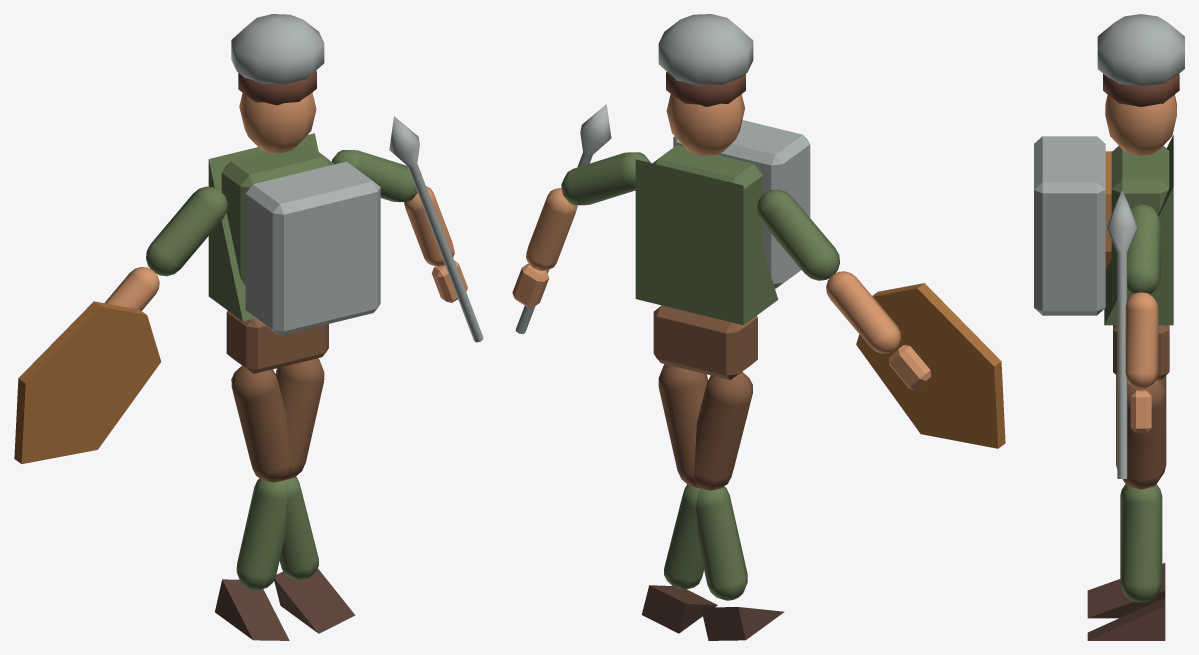
The model's file is adventurer.rustic.glb.
The picture shows the model from 3 angles, left to right: view 1: azimuth 30°, elevation 25°; view 2: azimuth 150°, elevation 25°; view 3: azimuth 270°, elevation 25°; orthographic projection.
Visible parts, largest first — view 1: accessory.body, accessory.off-hand, accessory.head, thigh.left, shin.right, torso, pelvis, upper-arm.left, tunic, thigh.right, head, accessory.main-hand (+8 smaller); view 2: tunic, accessory.off-hand, pelvis, accessory.body, accessory.head, thigh.left, shin.right, upper-arm.left, thigh.right, head, forearm.left, upper-arm.right (+9 smaller); view 3: accessory.body, accessory.head, shin.left, accessory.main-hand, torso, thigh.right, head, forearm.right, tunic, upper-arm.right, foot.left, foot.right (+4 smaller).
Boxes of the visible parts, <box> form: accessory.body: <box>245,161,380,335</box>; accessory.off-hand: <box>14,301,161,463</box>; accessory.head: <box>231,14,324,84</box>; thigh.left: <box>231,366,289,482</box>; shin.right: <box>236,478,287,590</box>; torso: <box>221,143,333,285</box>; pelvis: <box>226,310,328,373</box>; upper-arm.left: <box>146,186,227,276</box>; tunic: <box>208,133,318,321</box>; thigh.right: <box>275,358,324,480</box>; head: <box>239,92,316,153</box>; accessory.main-hand: <box>389,116,483,342</box>; tunic: <box>635,159,778,325</box>; accessory.off-hand: <box>856,283,1005,448</box>; pelvis: <box>653,305,757,379</box>; accessory.body: <box>673,120,810,288</box>; accessory.head: <box>658,14,753,85</box>; thigh.left: <box>694,371,752,490</box>; shin.right: <box>696,486,747,600</box>; upper-arm.left: <box>756,189,839,280</box>; thigh.right: <box>658,364,707,487</box>; head: <box>666,94,744,155</box>; forearm.left: <box>826,271,901,353</box>; upper-arm.right: <box>561,152,650,205</box>; accessory.body: <box>1034,136,1105,315</box>; accessory.head: <box>1097,14,1184,86</box>; shin.left: <box>1120,485,1162,602</box>; accessory.main-hand: <box>1106,190,1138,478</box>; torso: <box>1111,146,1169,300</box>; thigh.right: <box>1116,379,1166,489</box>; head: <box>1105,94,1176,155</box>; forearm.right: <box>1125,292,1158,388</box>; tunic: <box>1104,135,1173,325</box>; upper-arm.right: <box>1127,204,1160,294</box>; foot.left: <box>1087,598,1165,640</box>; foot.right: <box>1087,563,1165,618</box>.
Size of the model in its own units: 2.62 by 3.18 by 0.718.
